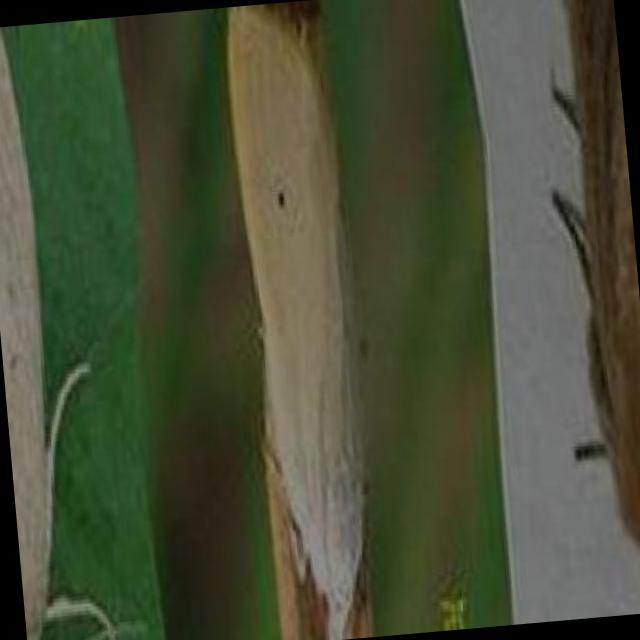stem-borer: (217, 0, 388, 640)
